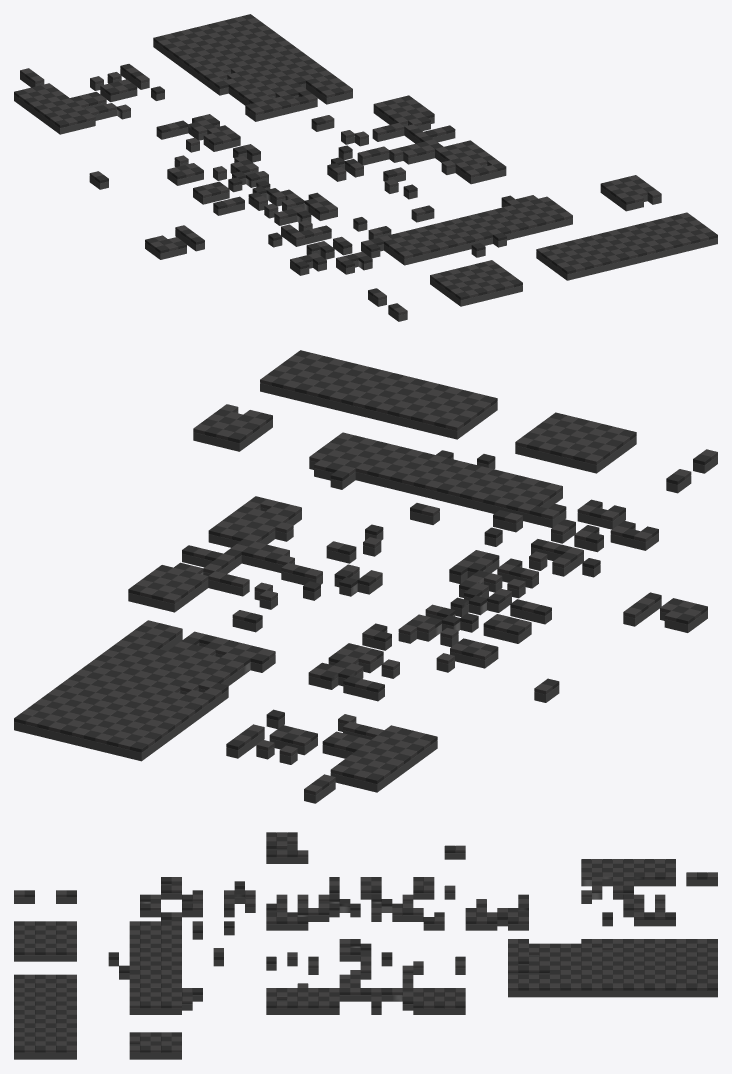
Rendered from Baked Mesh 4.obj.
The picture shows the model from 3 angles, top to bottom: view 1: azimuth 30°, elevation 25°; view 2: azimuth 150°, elevation 25°; view 3: azimuth 270°, elevation 25°; orthographic projection. The views are drawn at different scales.
Parts seen in each view (by area): view 1: Baked Mesh 4; view 2: Baked Mesh 4; view 3: Baked Mesh 4.
Boxes of the visible parts, bbox=[...] form: Baked Mesh 4: bbox=[14, 14, 717, 321]; Baked Mesh 4: bbox=[14, 350, 717, 803]; Baked Mesh 4: bbox=[14, 832, 717, 1059].
Size of the model in its own units: 98 by 2 by 134.
Materials: 1 (1 with a texture image).
